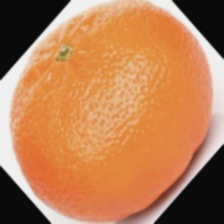orange: (31, 27, 222, 224)
